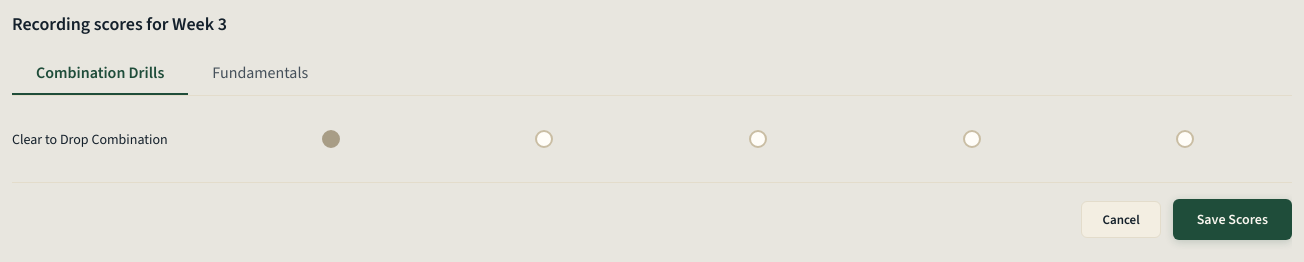
Test: SkillScoreInput › shows an error message on save failure
The image size is (1304, 262).
Click the radio button named "Score 2: Int".
click(758, 139)  # box [651,122,865,156]
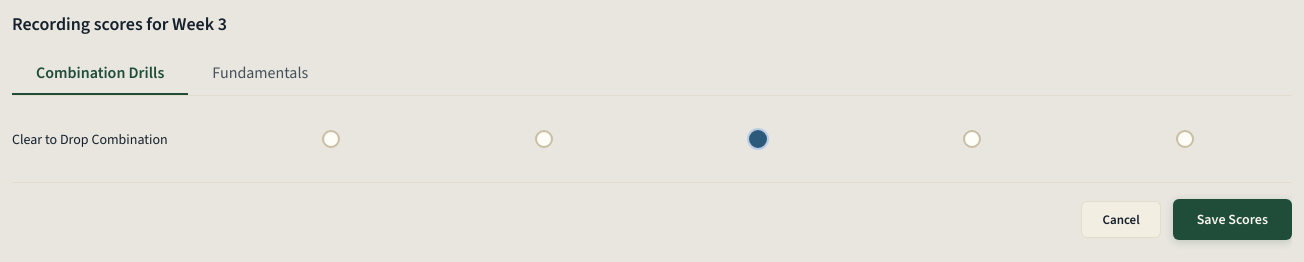
Click the button with test id "save-scores-button".
click(1232, 220)  # box [1173,199,1292,240]
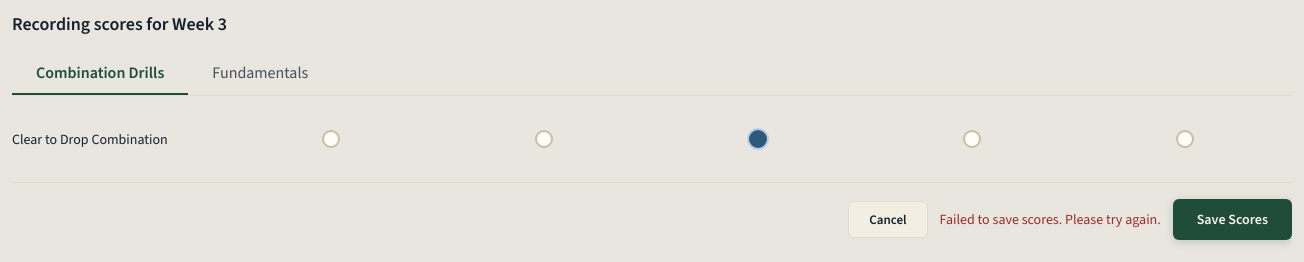
Check: the text "Failed to save scores. Please try again." is shown, box [940,209,1161,230]
